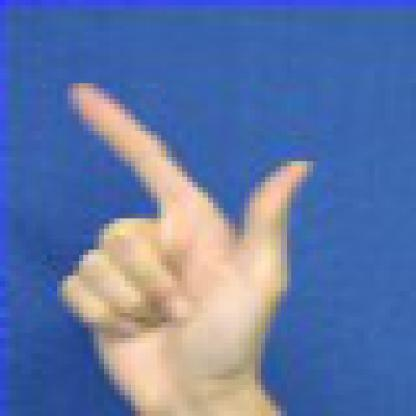seven: (36, 67, 333, 410)
